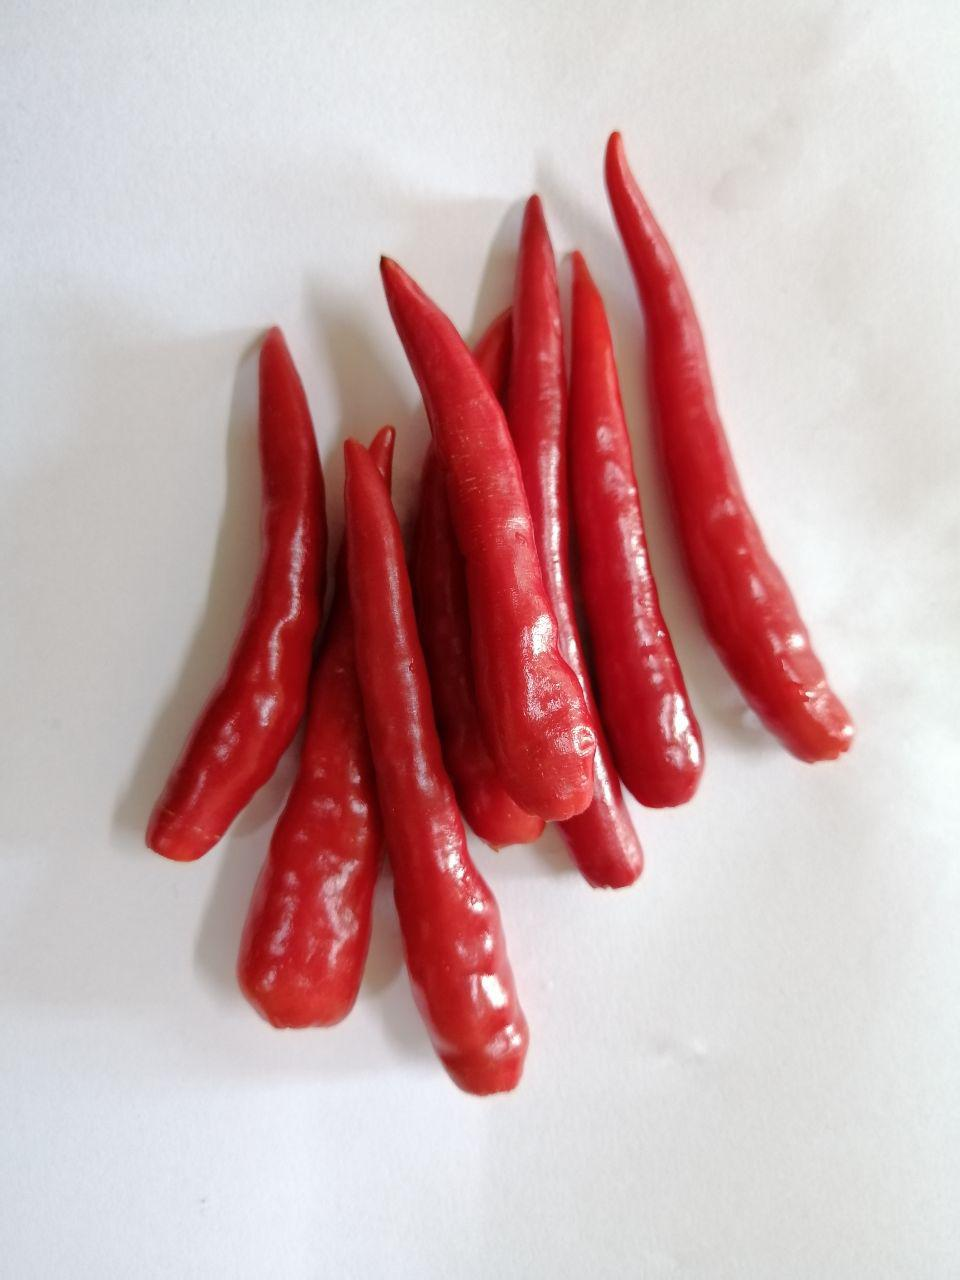lada merah: (594, 117, 882, 782), (367, 247, 624, 853), (339, 441, 555, 1112), (496, 182, 663, 915), (135, 317, 333, 876), (553, 217, 708, 814), (218, 592, 386, 1080)
